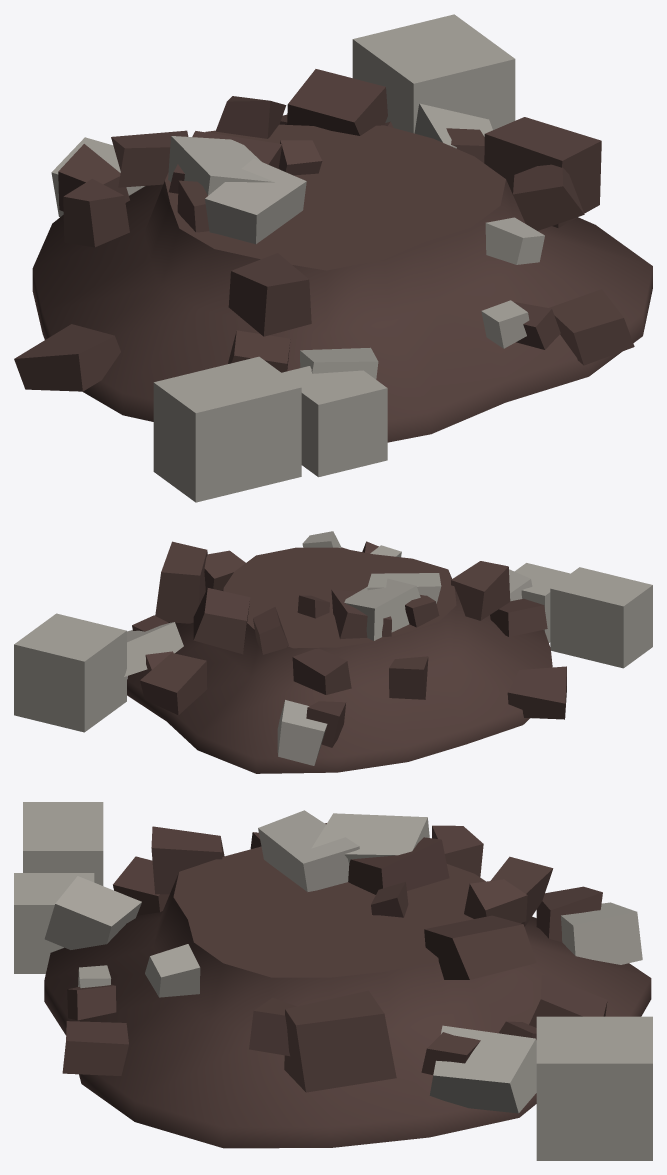
The model's file is mashup-rom-mid-prebuilt.fbx.
3 renders of one model, top to bottom at view 1: azimuth 30°, elevation 25°; view 2: azimuth 150°, elevation 25°; view 3: azimuth 270°, elevation 25°, orthographic. The views are drawn at different scales.
Visible parts, largest first — view 1: a1022.Rom; view 2: a1022.Rom; view 3: a1022.Rom.
Part boxes in pixels (<box>): a1022.Rom: <box>14,14,652,502</box>; a1022.Rom: <box>14,531,652,773</box>; a1022.Rom: <box>14,802,652,1160</box>.
Bounding box in the file's own units: 15.19 × 3.88 × 14.3.
